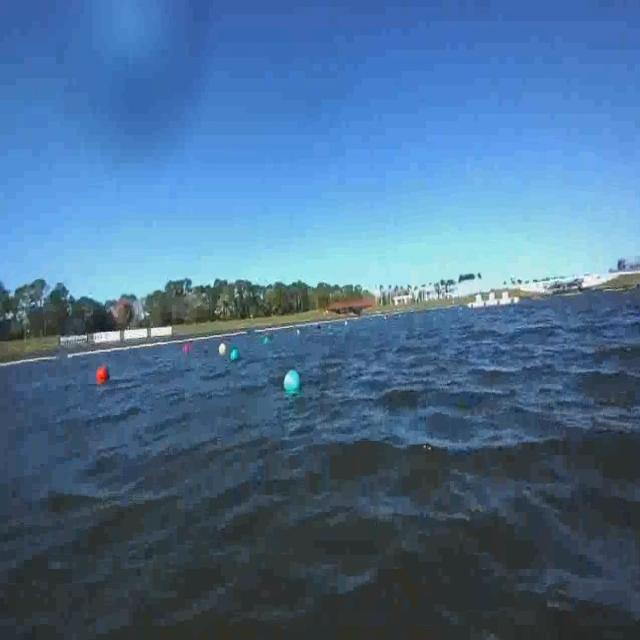green-buoy: (282, 364, 302, 397)
red-buoy: (95, 365, 109, 385)
